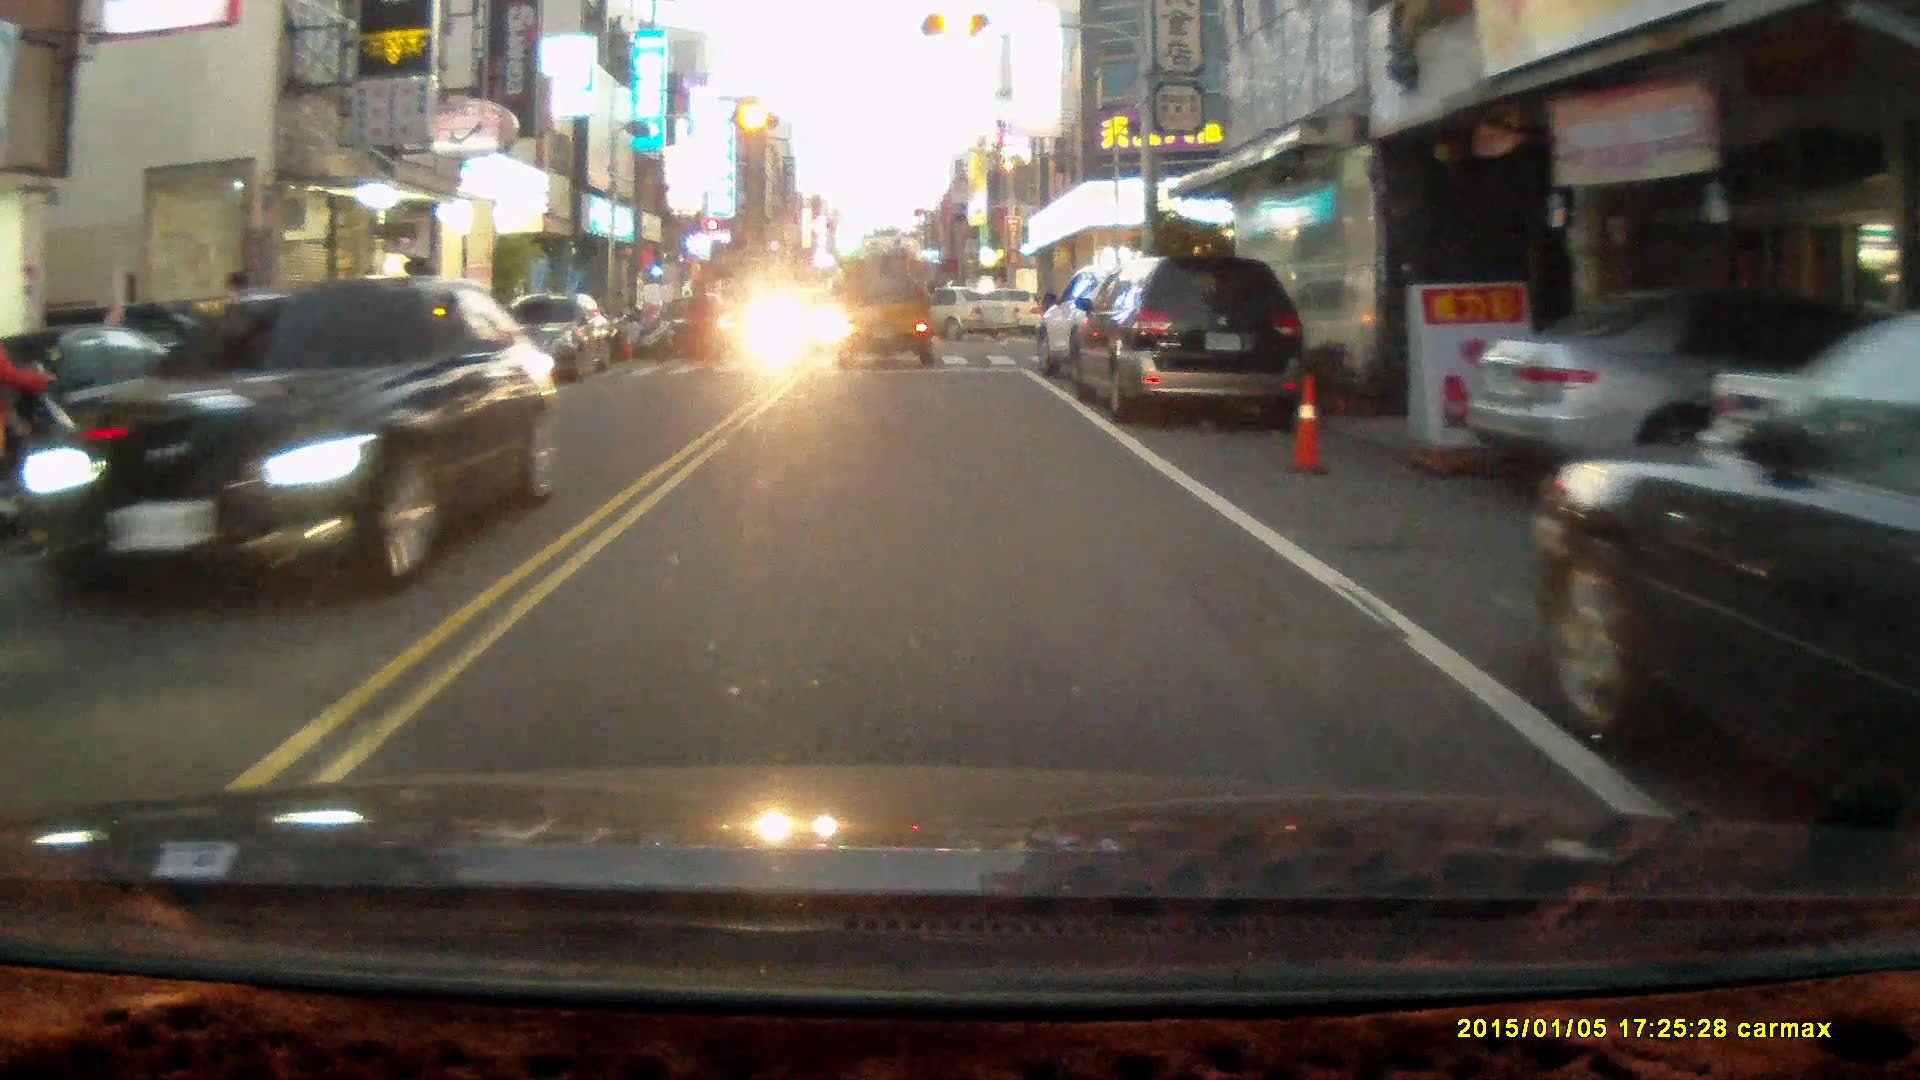pedestrian: (685, 275, 721, 376)
rider: (0, 300, 118, 552)
vehicle: (1533, 311, 1920, 819), (24, 276, 568, 601), (1462, 291, 1920, 511), (1068, 252, 1310, 428), (1698, 370, 1920, 519), (1037, 257, 1210, 402), (833, 251, 938, 371), (866, 285, 1013, 343), (654, 298, 743, 360)
